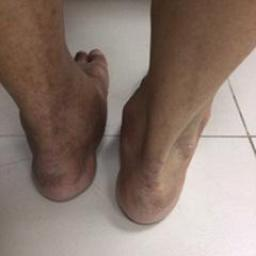Back View -Both Feet-: (4, 32, 228, 233)
